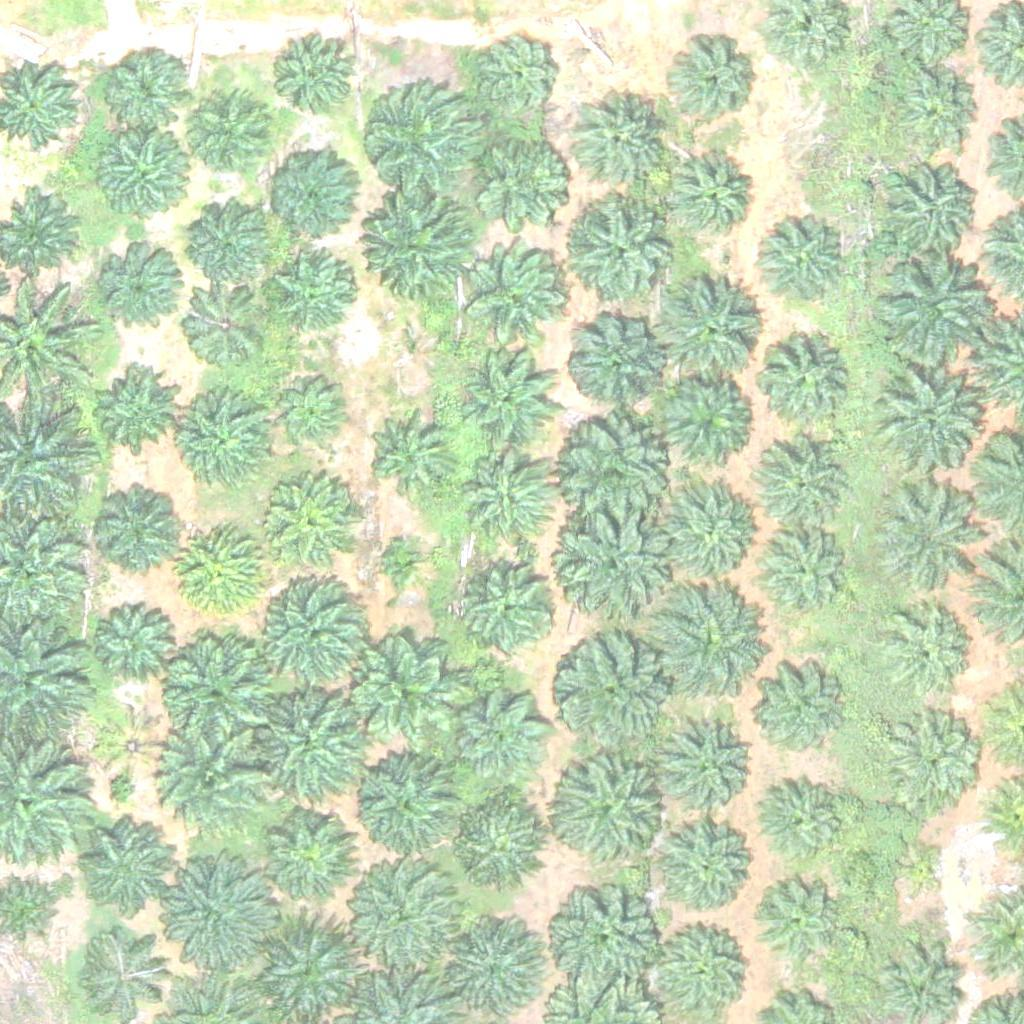Kelapa_Sawit: (147, 716, 272, 842), (253, 572, 378, 698), (250, 688, 375, 814), (345, 628, 470, 754), (362, 78, 487, 204), (148, 852, 273, 978), (656, 583, 769, 696), (554, 510, 667, 623), (875, 255, 987, 369), (160, 630, 272, 744), (650, 271, 762, 384), (567, 199, 679, 312), (560, 418, 672, 531), (870, 487, 970, 588), (746, 215, 846, 316), (751, 436, 851, 537), (752, 525, 852, 626), (661, 477, 761, 578), (653, 369, 753, 470), (569, 91, 669, 192), (556, 634, 656, 735), (262, 810, 362, 911), (355, 755, 455, 856), (450, 693, 550, 794), (461, 558, 561, 659), (461, 454, 561, 555), (456, 348, 556, 449), (471, 245, 571, 346), (374, 196, 474, 297), (354, 871, 454, 972), (557, 887, 657, 988), (879, 707, 979, 807), (874, 374, 974, 474), (879, 158, 979, 258), (755, 330, 855, 430), (565, 311, 665, 411), (73, 814, 173, 914), (178, 396, 278, 496), (475, 123, 575, 223), (562, 756, 662, 856), (655, 920, 755, 1020), (879, 605, 967, 693), (663, 719, 751, 807), (662, 151, 750, 239), (96, 135, 184, 223), (101, 250, 189, 338), (89, 362, 177, 450), (93, 479, 181, 567), (179, 527, 267, 615), (265, 485, 353, 573), (463, 807, 551, 895), (267, 151, 354, 240), (760, 771, 847, 860), (99, 43, 186, 131), (186, 197, 273, 285), (897, 66, 984, 154), (756, 664, 843, 752), (672, 40, 759, 128), (92, 598, 179, 686), (181, 278, 268, 366), (189, 89, 276, 177), (275, 32, 362, 120), (272, 259, 359, 347), (476, 36, 563, 124), (666, 827, 753, 915), (366, 409, 453, 497), (277, 375, 352, 450), (759, 883, 834, 958), (99, 711, 161, 774), (379, 534, 429, 584), (890, 852, 940, 902)
